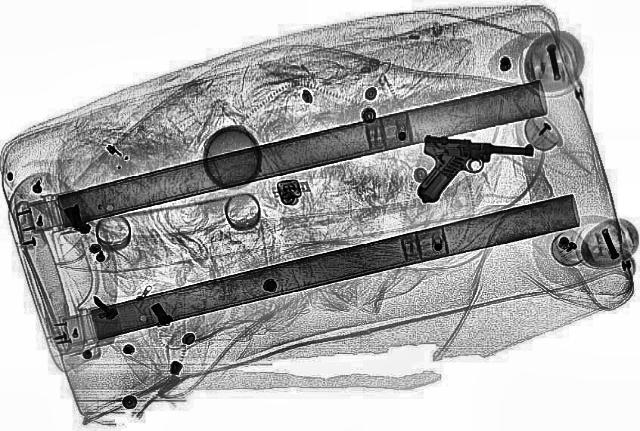Gun: (412, 134, 534, 210)
